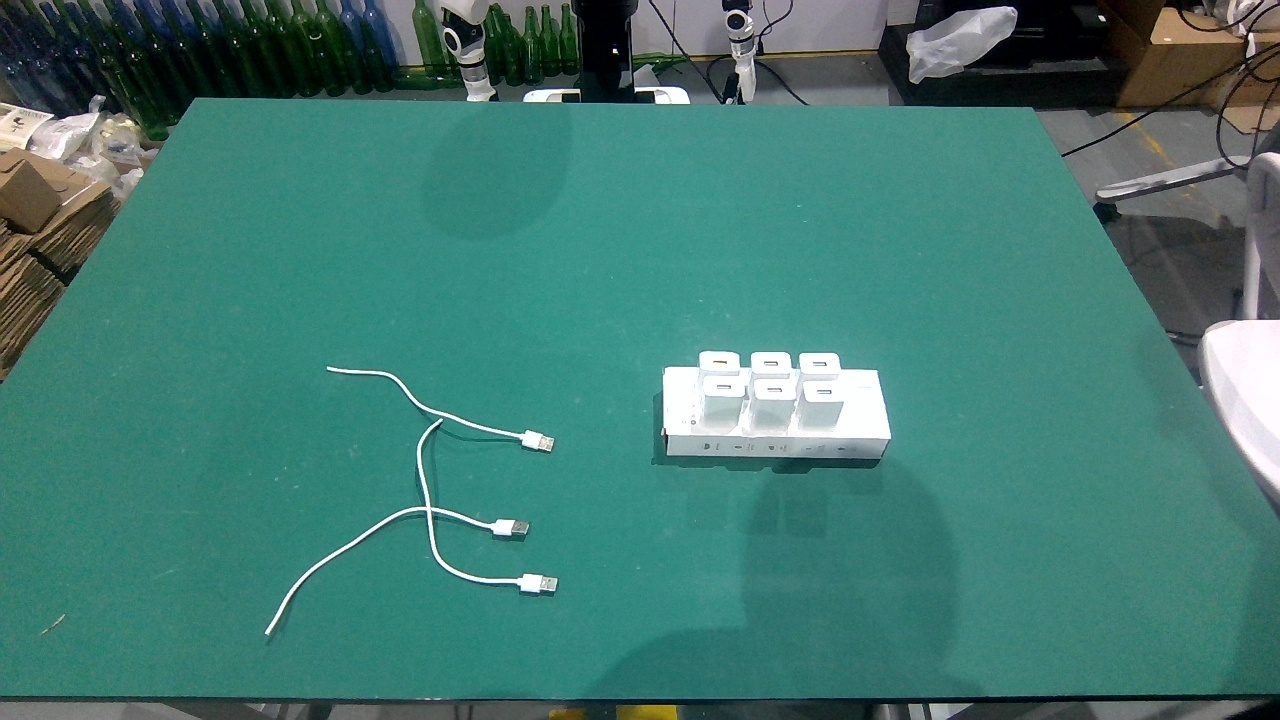usb_a_port: (814, 387, 833, 396), (760, 360, 781, 368), (764, 386, 784, 394), (710, 359, 729, 367), (810, 360, 829, 368), (715, 383, 732, 391)
